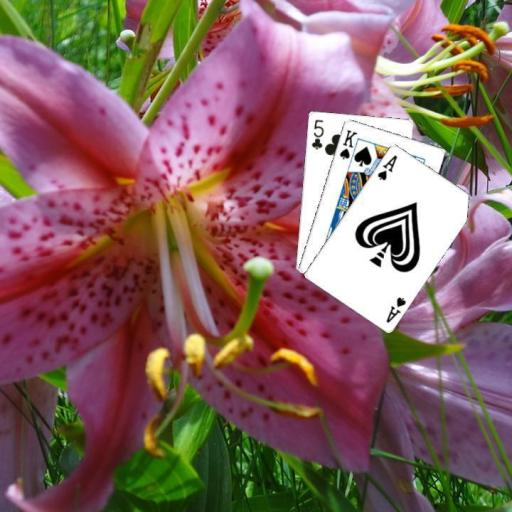card-corner: (382, 293, 408, 324), (336, 126, 358, 161), (374, 152, 398, 182), (309, 116, 325, 150)
